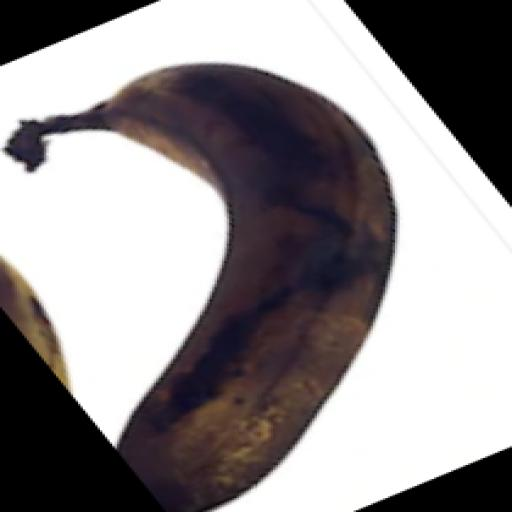banana-overripe: (0, 50, 450, 504)
